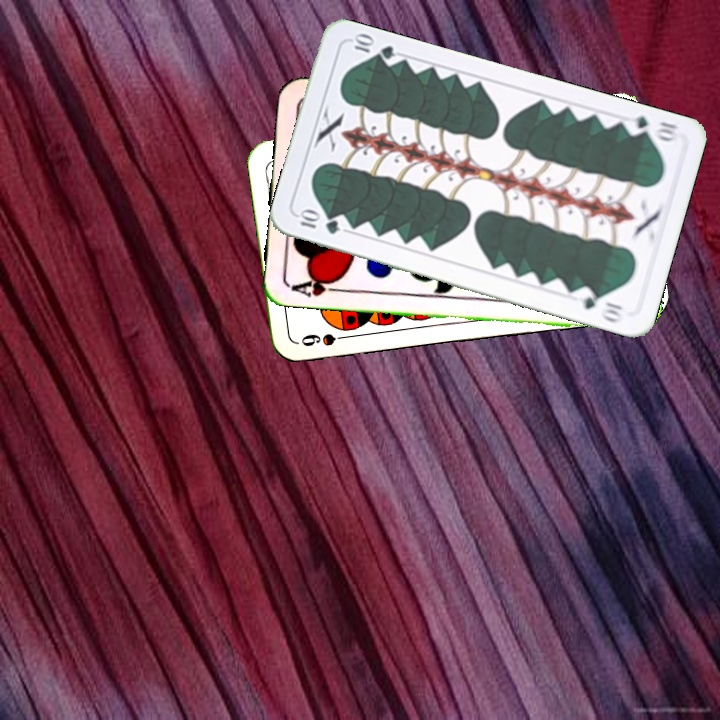G10: (621, 112, 681, 144), (293, 207, 343, 237)
HA: (287, 272, 346, 299)
S9: (297, 329, 355, 349)
